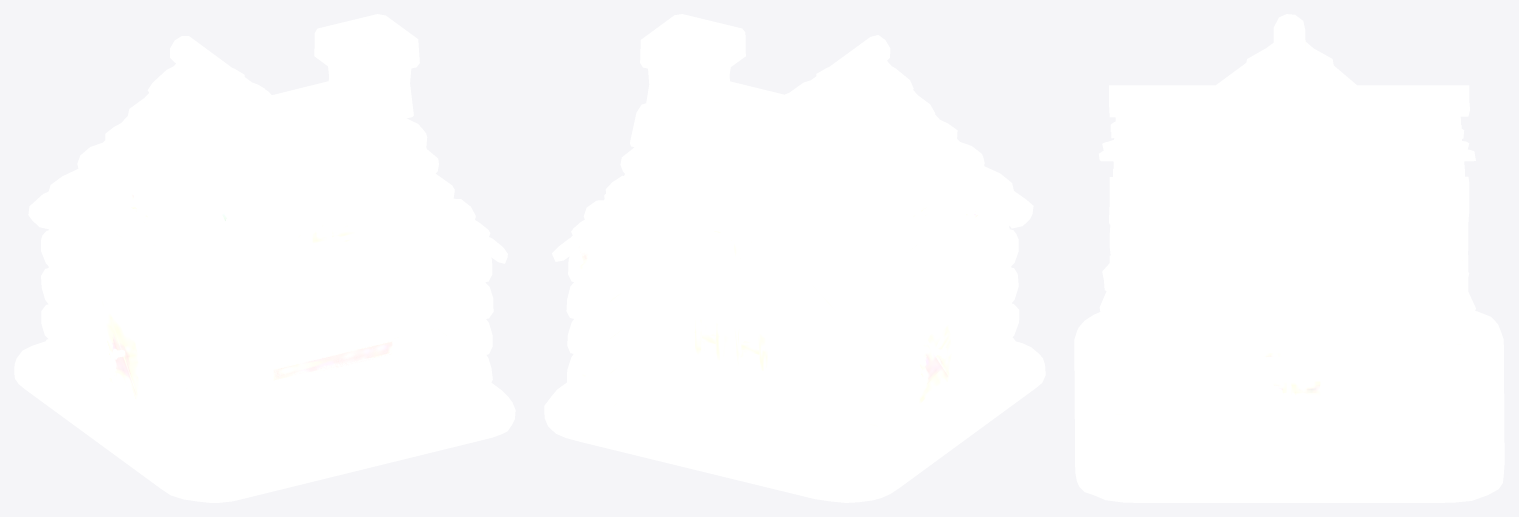
The model's file is cabana-tronco.glb.
The picture shows the model from 3 angles, left to right: view 1: azimuth 30°, elevation 25°; view 2: azimuth 150°, elevation 25°; view 3: azimuth 270°, elevation 25°; orthographic projection. The views are drawn at different scales.
Visible parts, largest first — view 1: mesh_node; view 2: mesh_node; view 3: mesh_node.
Part boxes in pixels (x1,y1,x2,y2): mesh_node: (14,14,515,502); mesh_node: (544,14,1045,502); mesh_node: (1074,14,1504,502).
Bounding box in the file's own units: 1 × 0.9375 × 0.998.
1 material, 1 textured.
